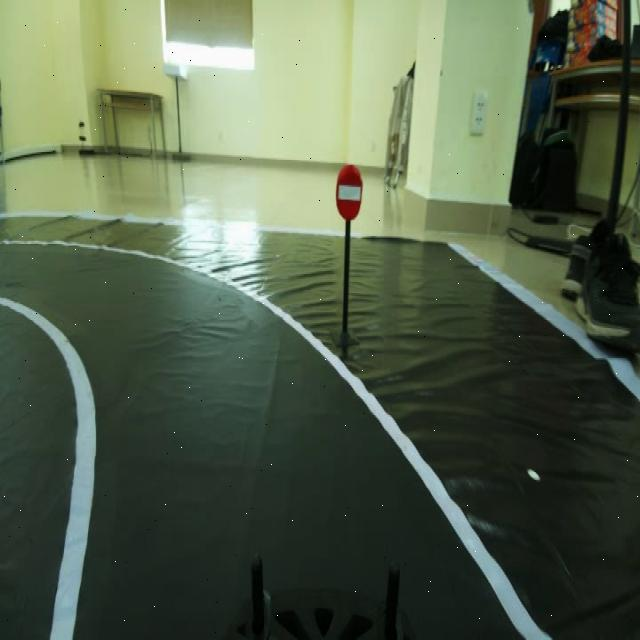no_entry: (327, 157, 365, 223)
